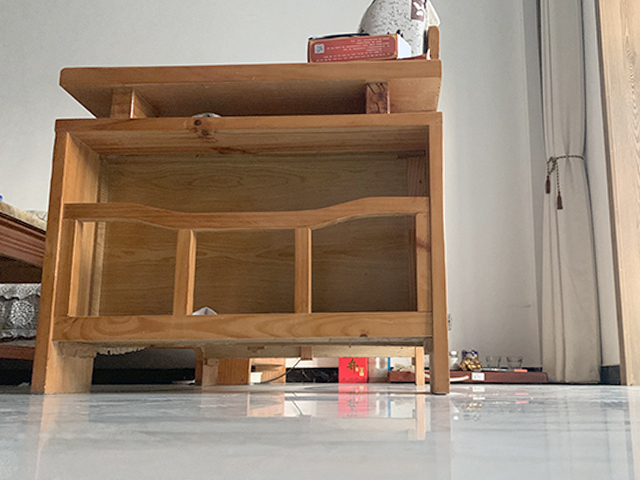curtain: (535, 1, 600, 384)
sofa: (28, 56, 450, 395)
